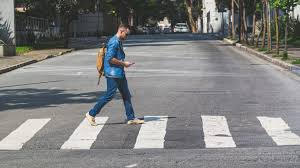pedestrian: (93, 20, 146, 133)
